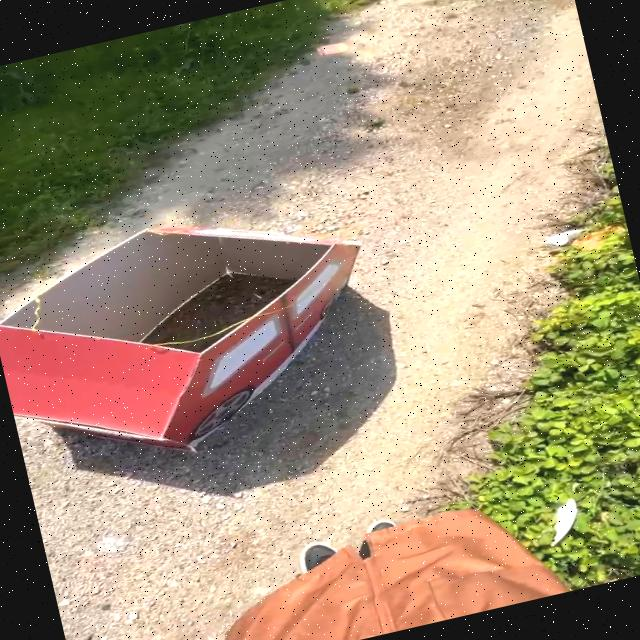red_car: (0, 157, 424, 507)
